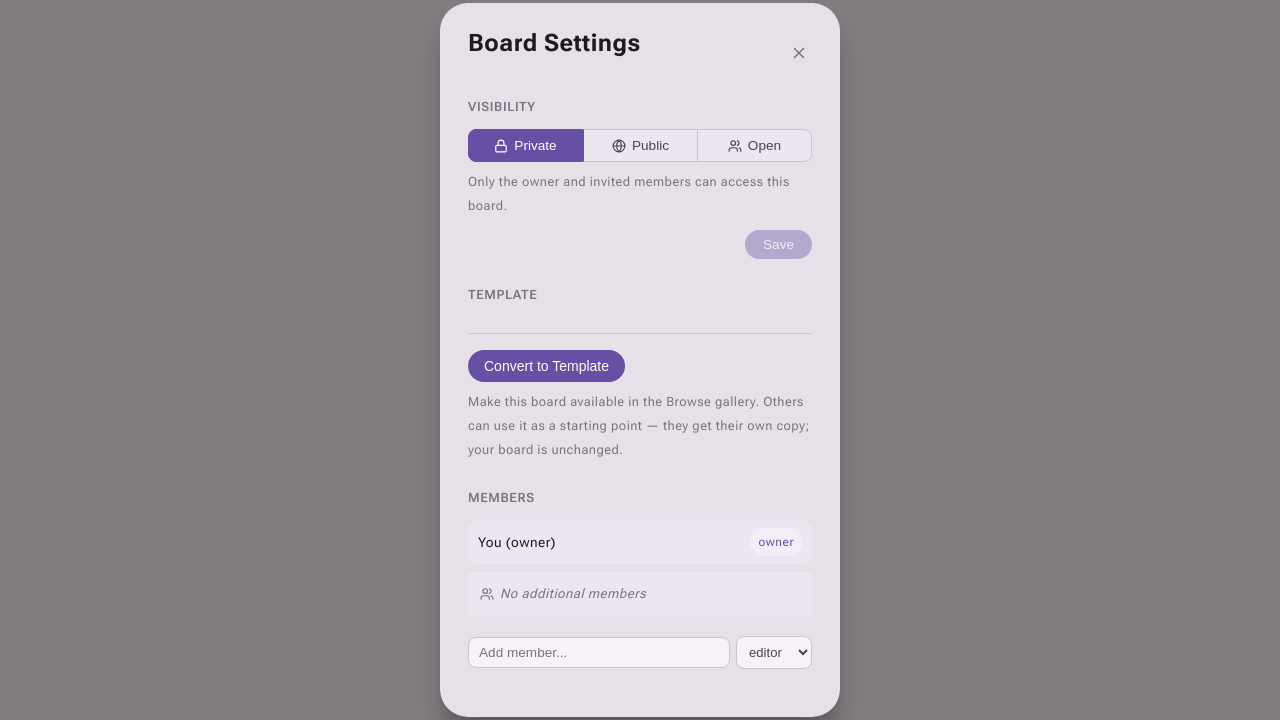
Scenario: BoardSettings — member search Firestore query › filters out the current user from results
Step 1. Type "alice" into the field with placeholder "Add member..." → (599,652), box [468,637,730,668]
Wait 300 ms
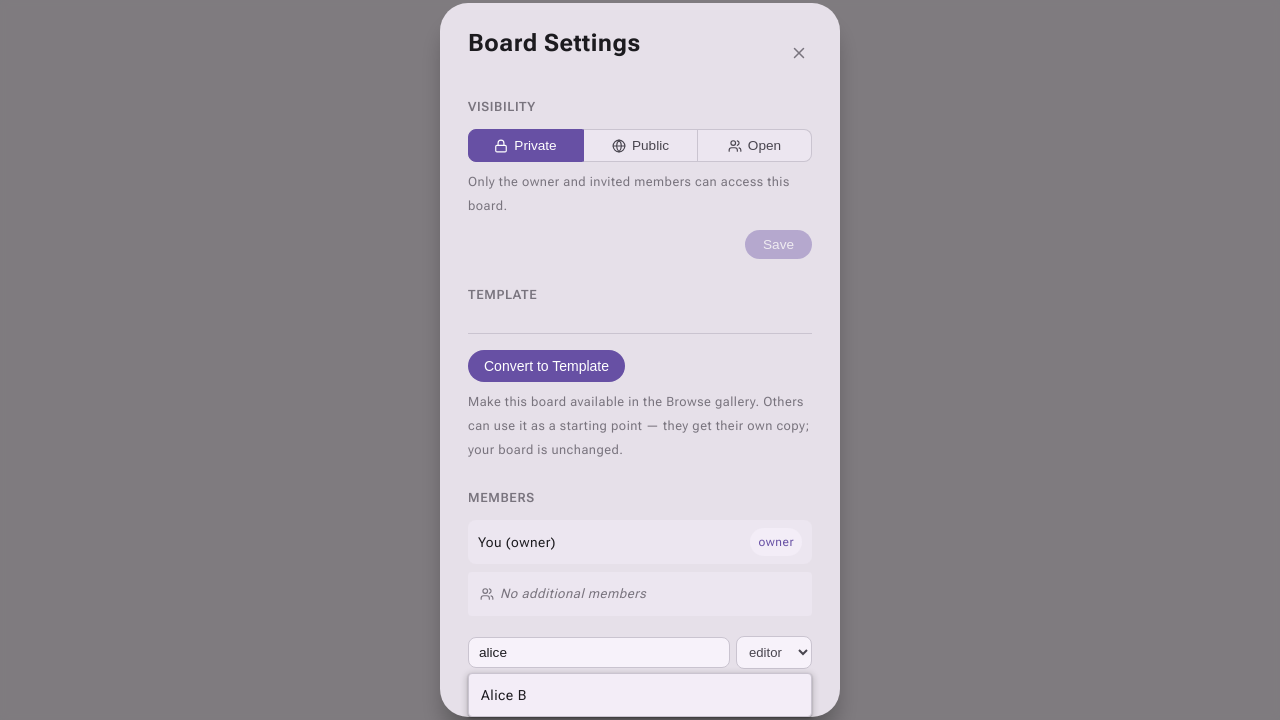
Result: the text "Alice B" is shown at [481,683,527,707]
